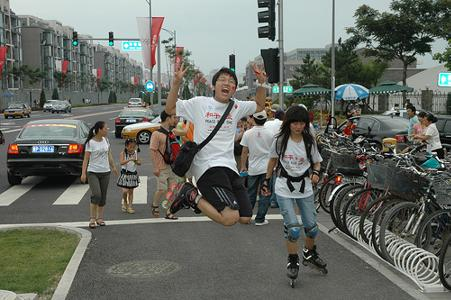person: (165, 63, 266, 226)
